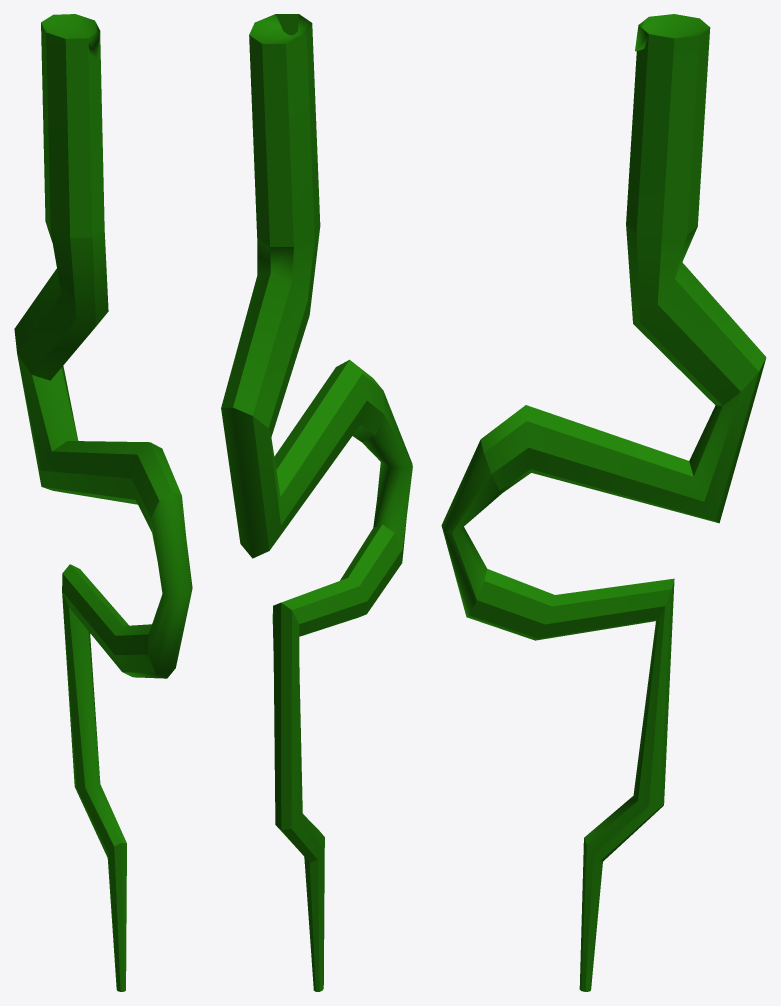
File: basic_vine.fbx
3 renders of one model, left to right at view 1: azimuth 30°, elevation 25°; view 2: azimuth 150°, elevation 25°; view 3: azimuth 270°, elevation 25°, orthographic. The views are drawn at different scales.
Parts seen in each view (by area): view 1: pCylinder1; view 2: pCylinder1; view 3: pCylinder1.
Boxes of the visible parts, x1,y1,x2,y2 form: pCylinder1: (14, 14, 192, 991); pCylinder1: (221, 14, 412, 991); pCylinder1: (441, 14, 766, 991).
Size of the model in its own units: 1.39 by 23.01 by 7.05.
